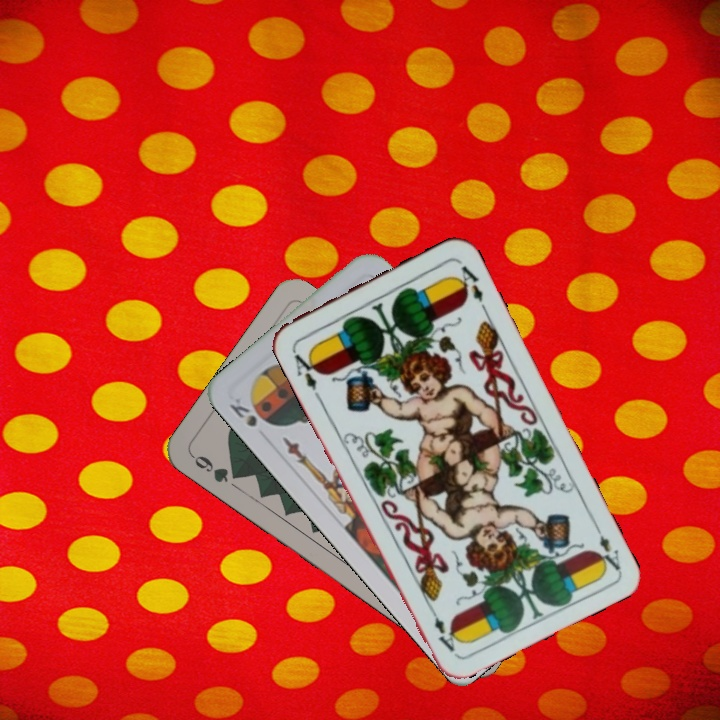EA: (589, 517, 623, 574), (288, 345, 323, 400)
G9: (187, 451, 245, 486)
SK: (225, 393, 260, 430)
